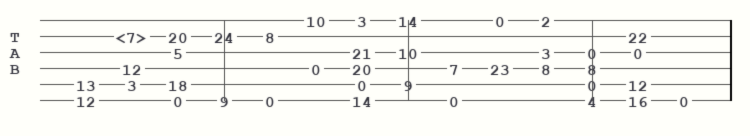0: (173, 93, 187, 107), (265, 93, 279, 107), (311, 61, 325, 75), (357, 77, 371, 91), (449, 93, 463, 107), (495, 13, 509, 27), (587, 45, 601, 59), (587, 77, 601, 91), (633, 45, 647, 59), (679, 93, 693, 107)
10: (306, 13, 330, 27), (398, 45, 422, 59)
12: (76, 93, 100, 107), (122, 61, 146, 75), (628, 77, 652, 91)
13: (76, 77, 100, 91)
14: (352, 93, 376, 107), (398, 13, 422, 27)
16: (628, 93, 652, 107)
18: (168, 77, 192, 91)
2: (541, 13, 555, 27)
20: (168, 29, 192, 43), (352, 61, 376, 75)
21: (352, 45, 376, 59)
22: (628, 29, 652, 43)
23: (490, 61, 514, 75)
24: (214, 29, 238, 43)
3: (127, 77, 141, 91), (357, 13, 371, 27), (541, 45, 555, 59)
4: (587, 93, 601, 107)
5: (173, 45, 187, 59)
7: (449, 61, 463, 75)
8: (265, 29, 279, 43), (541, 61, 555, 75), (587, 61, 601, 75)
9: (219, 93, 233, 107), (403, 77, 417, 91)
harmonic: (116, 29, 151, 43)
